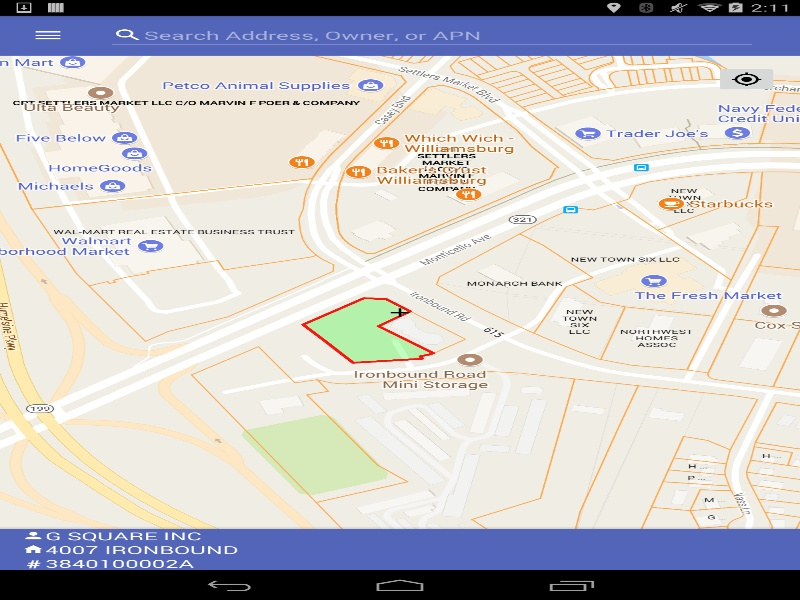Button: (10, 15, 85, 55), (714, 65, 778, 93)
Input: (106, 21, 791, 49)
